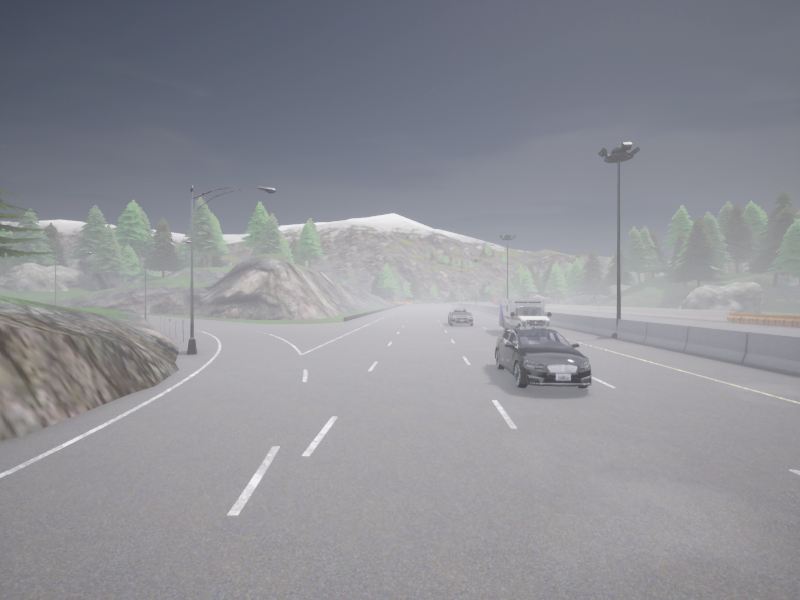vehicle: (495, 327, 591, 388), (499, 299, 551, 332), (448, 308, 472, 325), (491, 300, 496, 302)
